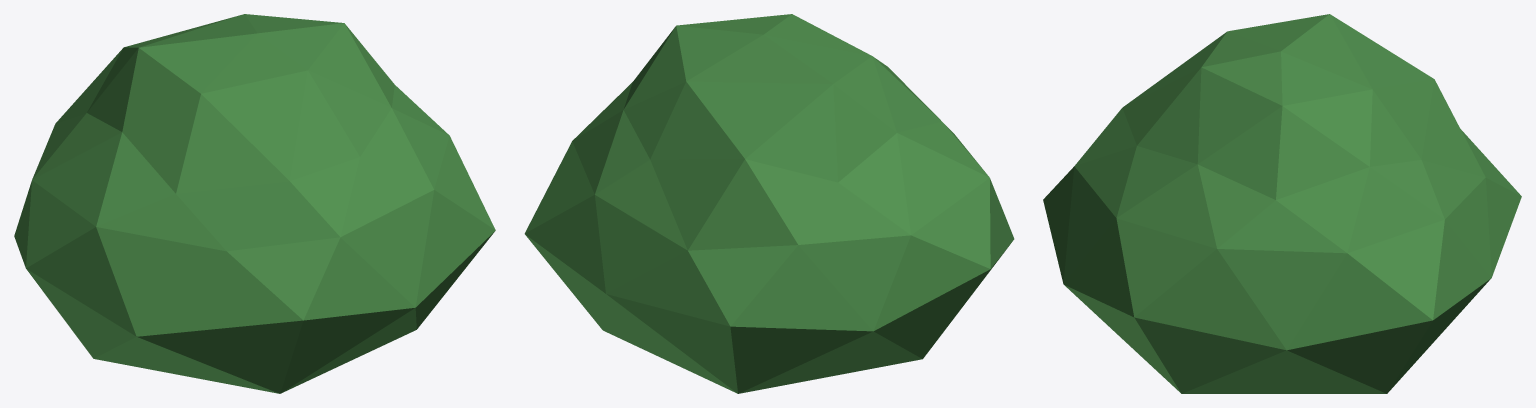
Rendered from bush_02.glb.
3 views of the same model, side by side, from view 1: azimuth 30°, elevation 25°; view 2: azimuth 150°, elevation 25°; view 3: azimuth 270°, elevation 25° (orthographic).
Visible parts, largest first — view 1: Object_72; view 2: Object_72; view 3: Object_72.
Boxes of the visible parts, x1,y1,x2,y2 form: Object_72: (14,14,495,393); Object_72: (524,14,1014,393); Object_72: (1043,14,1521,393).
Bounding box in the file's own units: 3.39 × 2.23 × 3.35.
